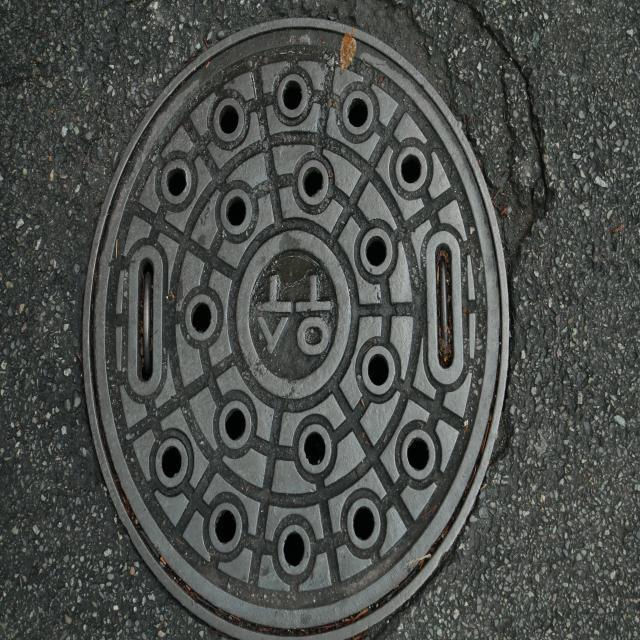manhole: (85, 19, 508, 640)
